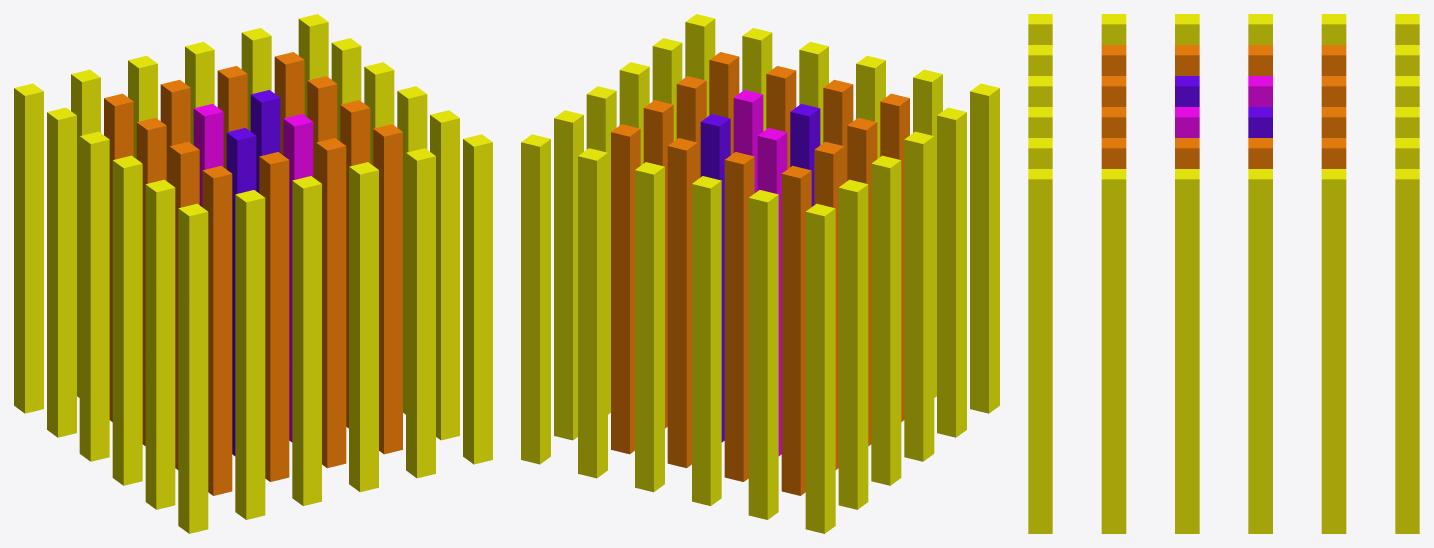
File: fform_7.glb
3 renders of one model, left to right at view 1: azimuth 30°, elevation 25°; view 2: azimuth 150°, elevation 25°; view 3: azimuth 270°, elevation 25°, orthographic. The views are drawn at different scales.
Parts seen in each view (by area): view 1: FFORM_0; view 2: FFORM_0; view 3: FFORM_0.
Part boxes in pixels (box(x1,y1,x2,y2)): FFORM_0: box(14, 14, 492, 533); FFORM_0: box(521, 14, 999, 533); FFORM_0: box(1028, 14, 1419, 533).
Size of the model in its own units: 4 by 4 by 4.
